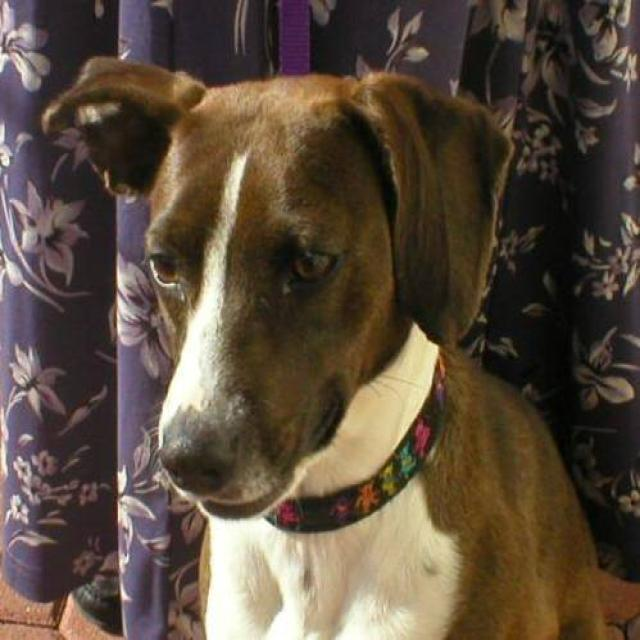dog: (39, 53, 638, 638)
